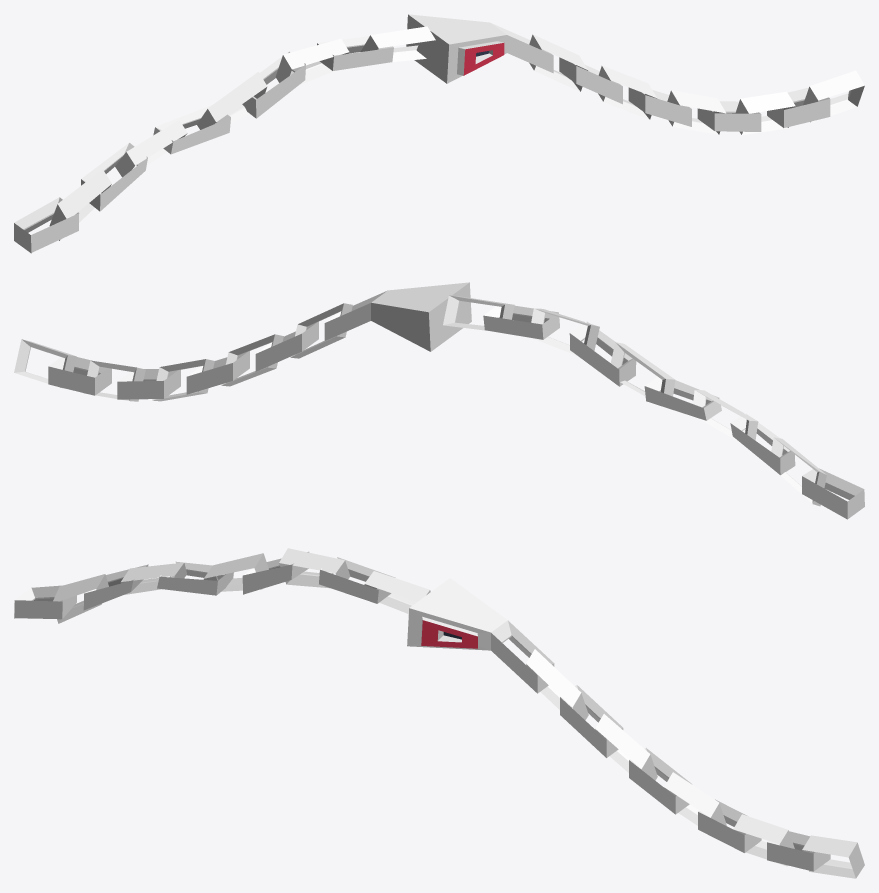
Rendered from assetPadlock.fbx.
3 views of the same model, one above another, from view 1: azimuth 30°, elevation 25°; view 2: azimuth 150°, elevation 25°; view 3: azimuth 330°, elevation 25° (orthographic).
Parts seen in each view (by area): view 1: Chain; view 2: Chain; view 3: Chain.
Part boxes in pixels (left/top/right/bottom): Chain: left=14, top=14, right=864, bottom=253; Chain: left=14, top=282, right=864, bottom=519; Chain: left=14, top=548, right=864, bottom=878.
Bounding box in the file's own units: 343 × 77.16 × 30.2.
